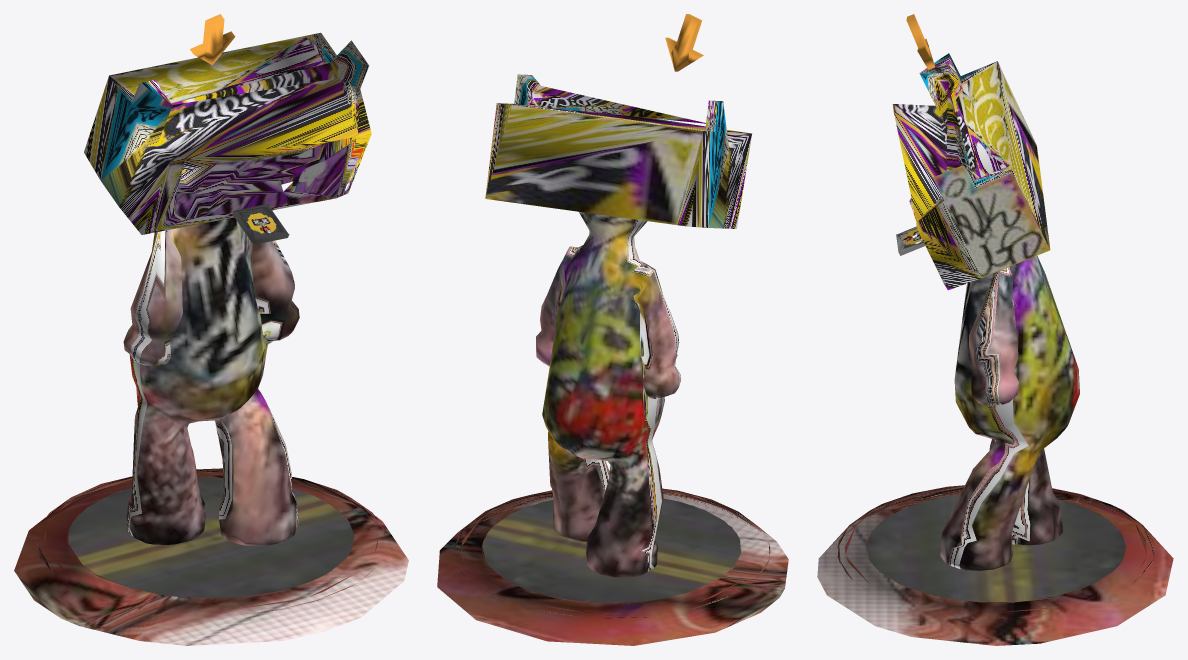
3 views of the same model, side by side, from view 1: azimuth 30°, elevation 25°; view 2: azimuth 150°, elevation 25°; view 3: azimuth 270°, elevation 25° (orthographic). The views are drawn at different scales.
Size of the model in its own units: 1.45 by 2.39 by 1.44.
9 materials, 6 textured.
